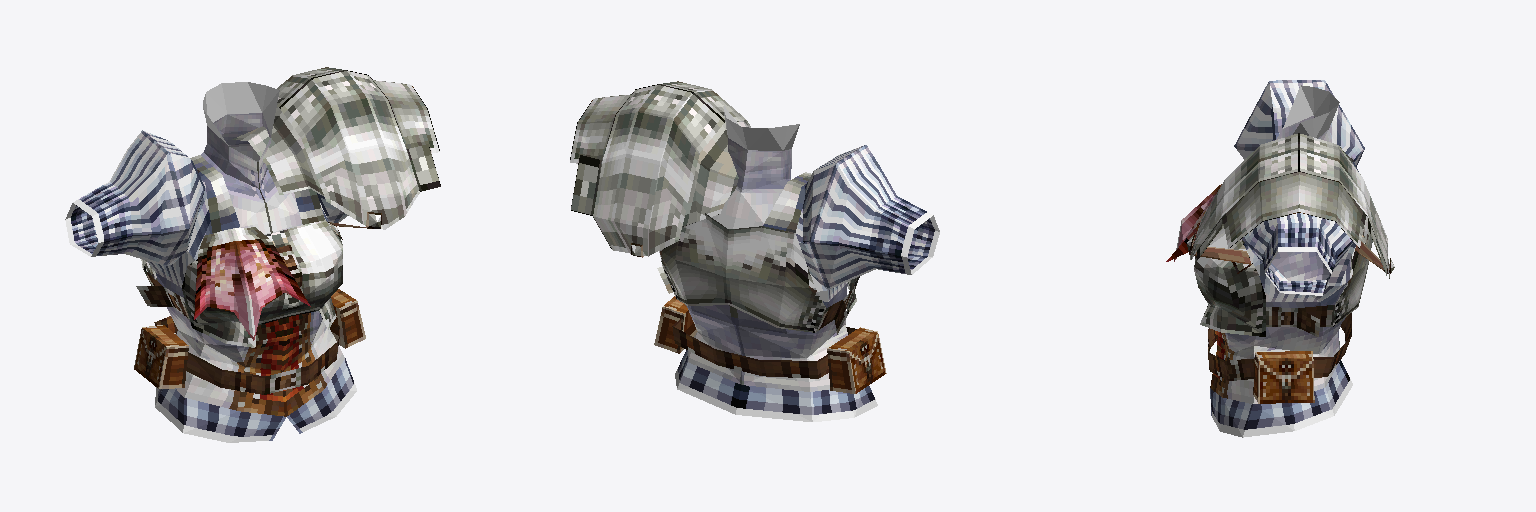
The picture shows the model from 3 angles: view 1: azimuth 30°, elevation 25°; view 2: azimuth 150°, elevation 25°; view 3: azimuth 270°, elevation 25°; orthographic projection.
Parts seen in each view (by area): view 1: mesh00; view 2: mesh00; view 3: mesh00.
Part boxes in pixels (x1,y1,x2,y2): mesh00: (65,67,440,442); mesh00: (570,81,939,421); mesh00: (1166,80,1394,437).
Size of the model in its own units: 65.14 by 58.41 by 39.3.
Materials: 2 (1 with a texture image).